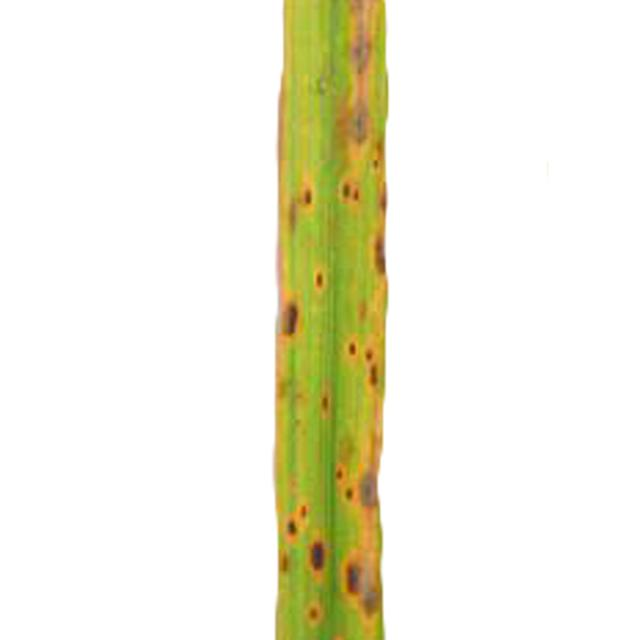Brown spot: (256, 0, 398, 640)
